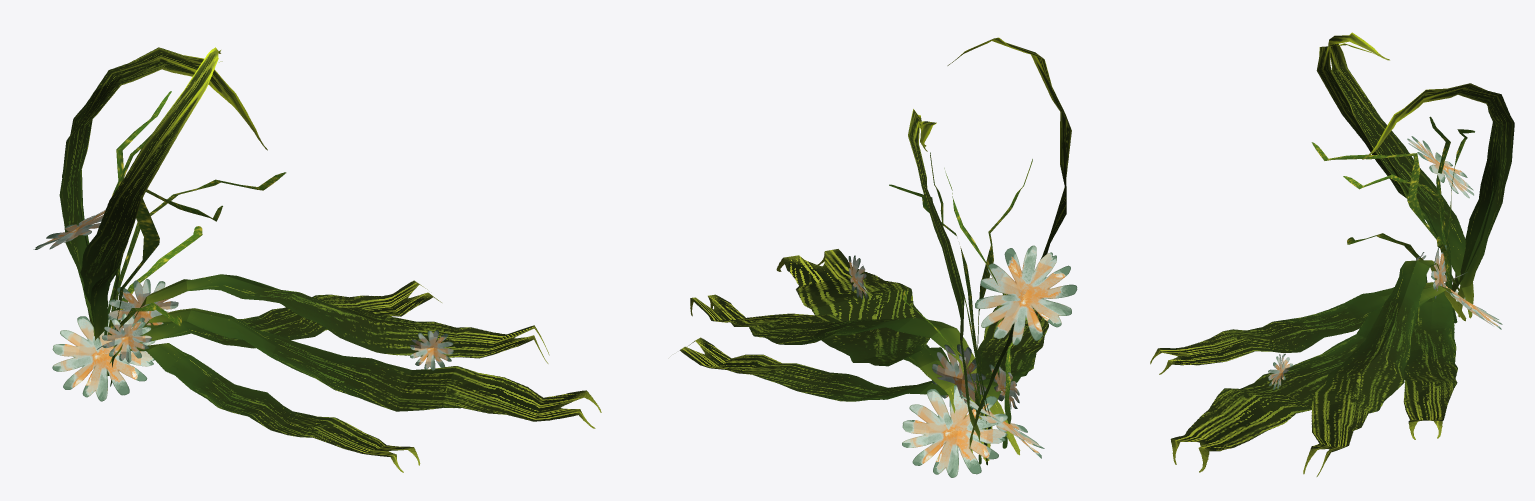
3 views of the same model, side by side, from view 1: azimuth 30°, elevation 25°; view 2: azimuth 150°, elevation 25°; view 3: azimuth 270°, elevation 25° (orthographic). The views are drawn at different scales.
Parts seen in each view (by area): view 1: A03.002; view 2: A03.002; view 3: A03.002.
Part boxes in pixels (x1,y1,x2,y2): A03.002: (33, 47, 601, 472); A03.002: (679, 37, 1077, 477); A03.002: (1150, 32, 1514, 476).
Size of the model in its own units: 1173 by 950 by 979.
